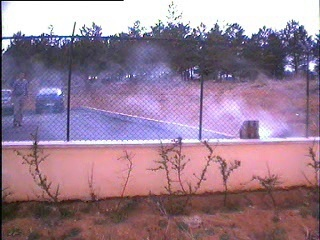smoke: (111, 49, 298, 141)
